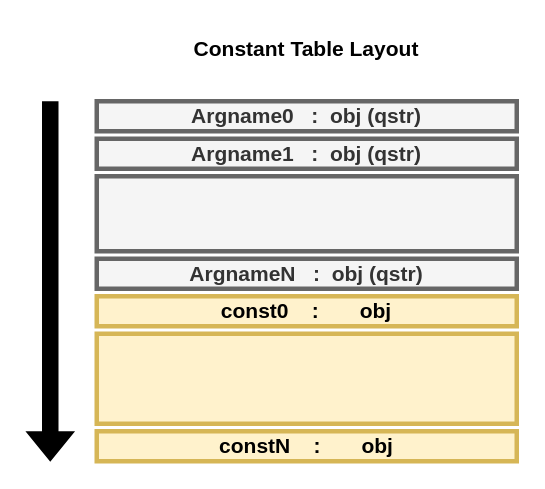
This 545x489 diagram has some shape labels left out. Each missing label, with the box of its shape:
... : obj (qstr): (94, 173, 518, 253)
..... : obj: (94, 331, 518, 425)
